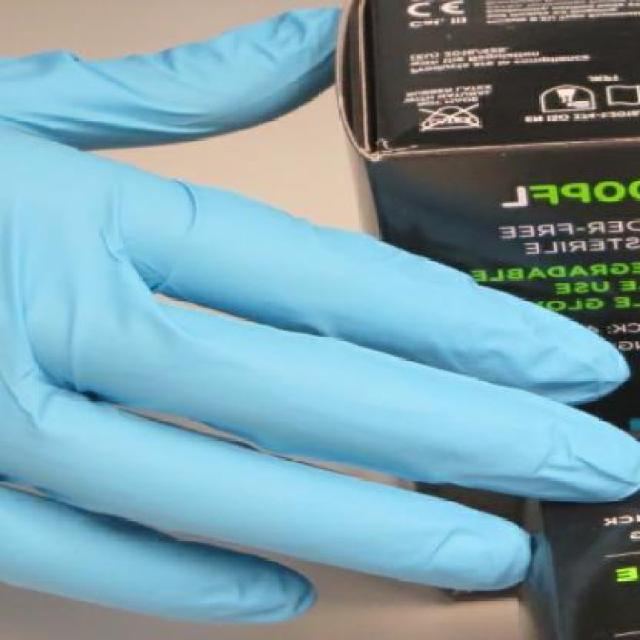glove: (2, 10, 640, 631)
